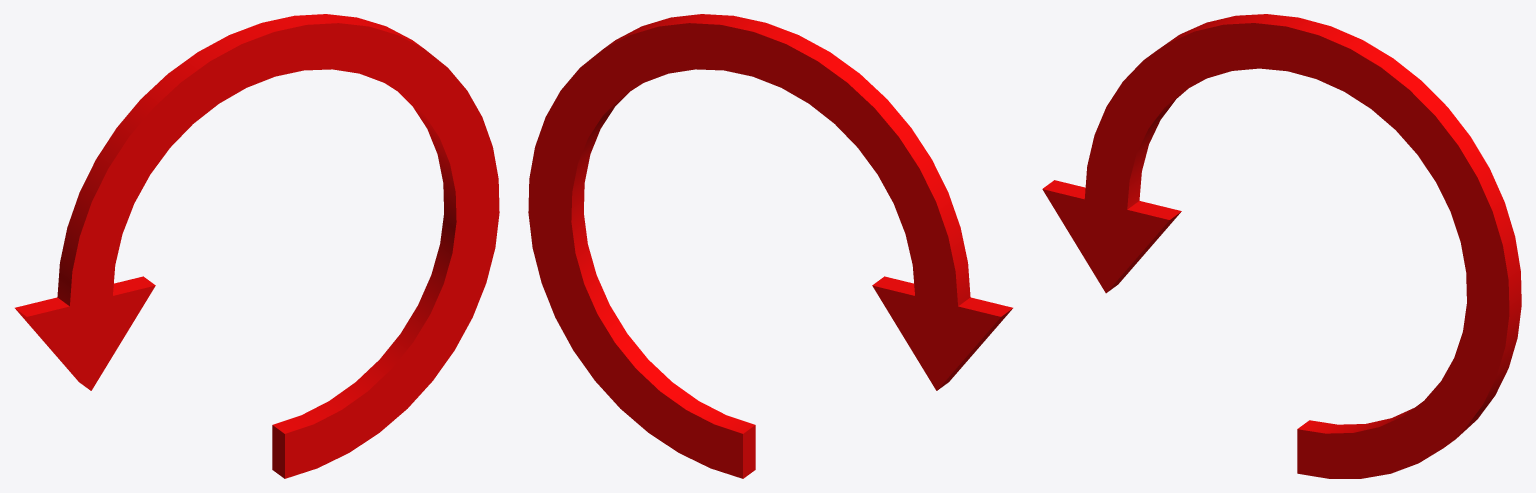
File: arrow.obj
3 views of the same model, side by side, from view 1: azimuth 30°, elevation 25°; view 2: azimuth 150°, elevation 25°; view 3: azimuth 330°, elevation 25° (orthographic).
Visible parts, largest first — view 1: arrow; view 2: arrow; view 3: arrow.
Part boxes in pixels (x1,y1,x2,y2): arrow: [15, 14, 499, 478]; arrow: [528, 14, 1012, 478]; arrow: [1042, 14, 1521, 478].
Size of the model in its own units: 0.2199 by 0.1999 by 0.01.
